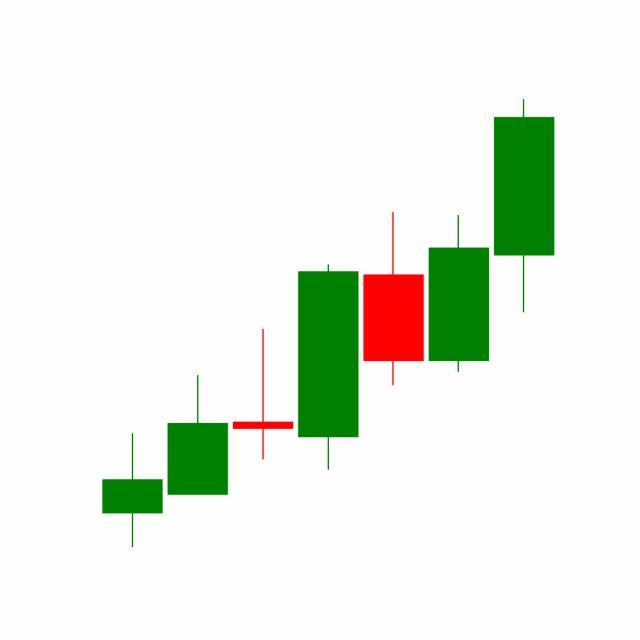Hikkake Pattern: (229, 99, 555, 475)
